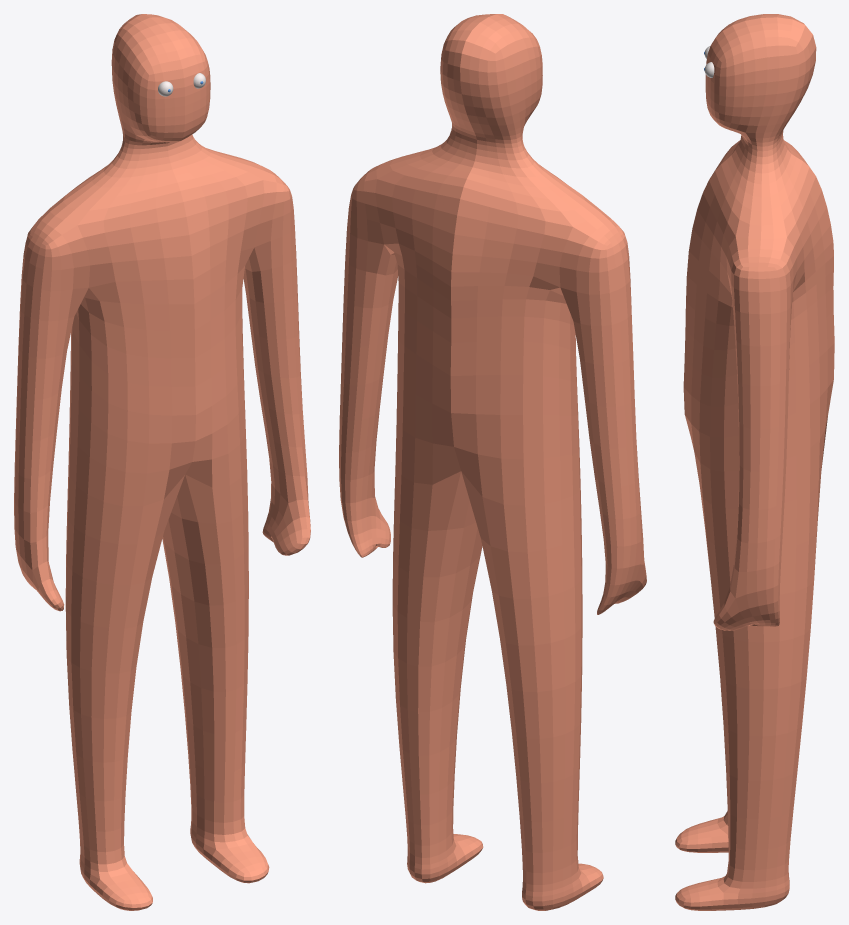
The model's file is player_unity3.fbx.
The picture shows the model from 3 angles, left to right: view 1: azimuth 30°, elevation 25°; view 2: azimuth 150°, elevation 25°; view 3: azimuth 270°, elevation 25°; orthographic projection. The views are drawn at different scales.
Visible parts, largest first — view 1: Cube; view 2: Cube; view 3: Cube.
Part boxes in pixels (x1,y1,x2,y2): Cube: (14, 14, 310, 910); Cube: (339, 14, 646, 910); Cube: (675, 14, 834, 910).
Bounding box in the file's own units: 320 × 914 × 154.
